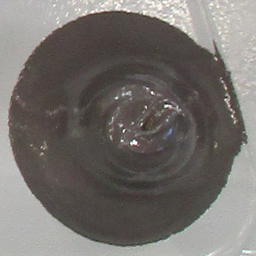perfect: (5, 9, 249, 248)
